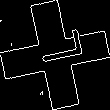L_W: (27, 35, 83, 75)
